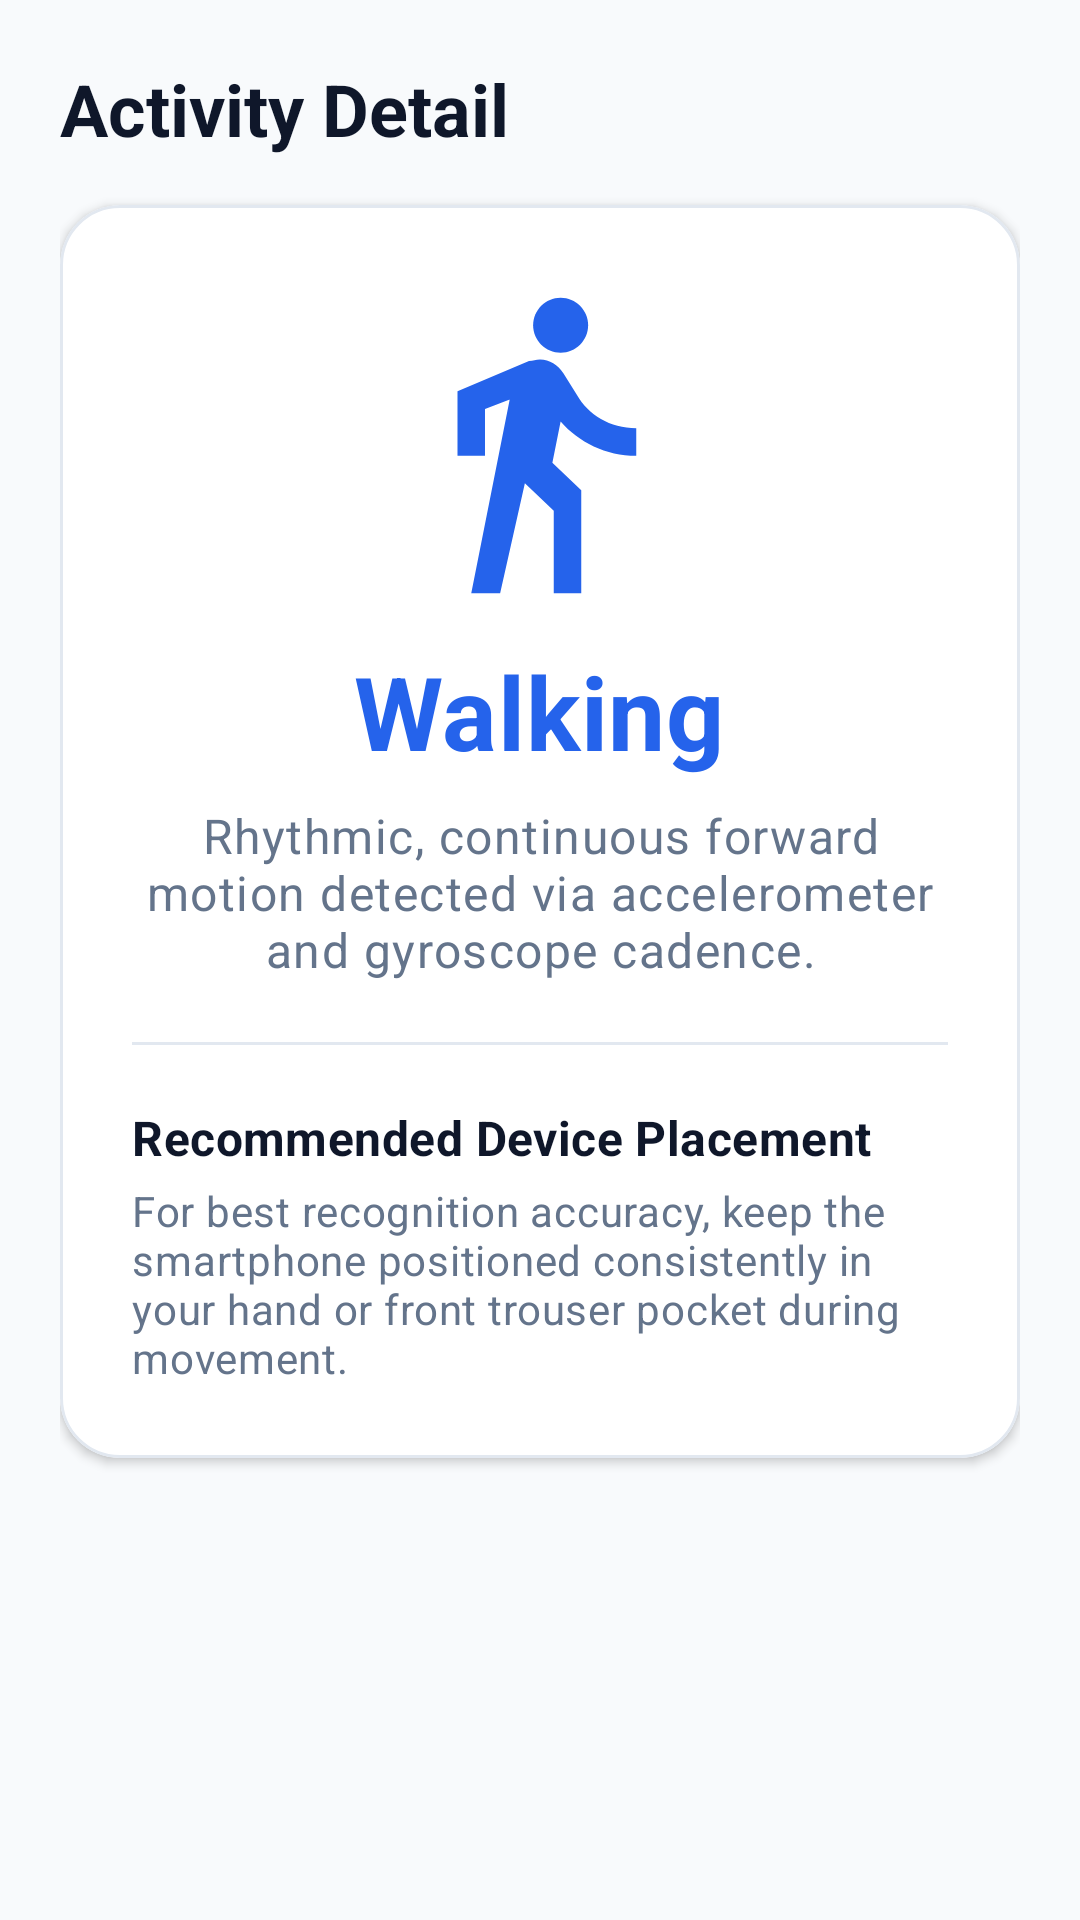

Screen size 1080w x 1920h. Icon name, then its box in pixels as [x1, y1, x2, y2]:
Activity Illustration: [457, 297, 637, 594]
